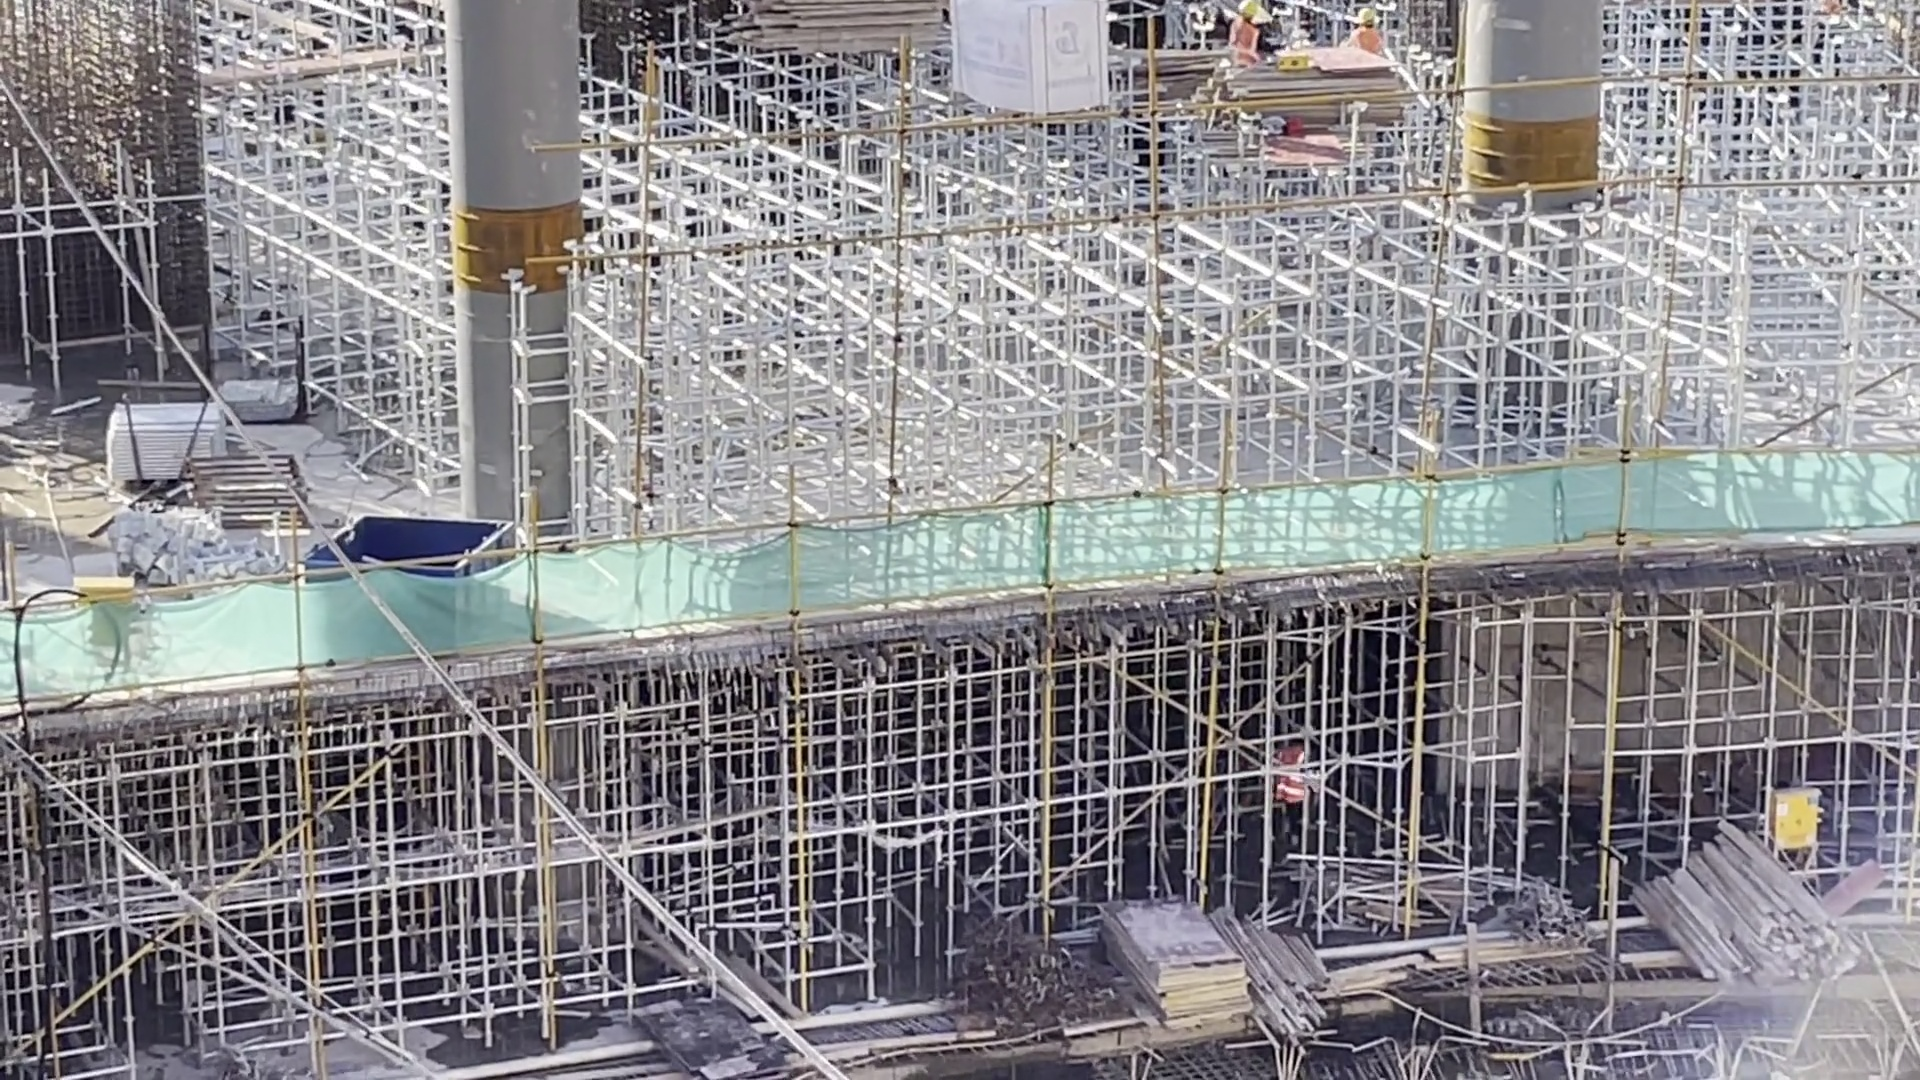board: (1093, 890, 1255, 1035), (1221, 45, 1415, 132)
ebox: (1770, 786, 1825, 856), (58, 572, 139, 594)
helmet: (1238, 1, 1259, 19), (1357, 8, 1376, 26)
hopper: (281, 508, 522, 557)
person: (1225, 1, 1276, 68), (1346, 8, 1386, 60), (1281, 775, 1307, 853)
scaffold: (104, 400, 230, 454)
vest: (1229, 20, 1260, 65), (1350, 29, 1382, 55)
wood: (1625, 815, 1864, 994), (706, 1, 945, 63), (1251, 924, 1329, 1043)
